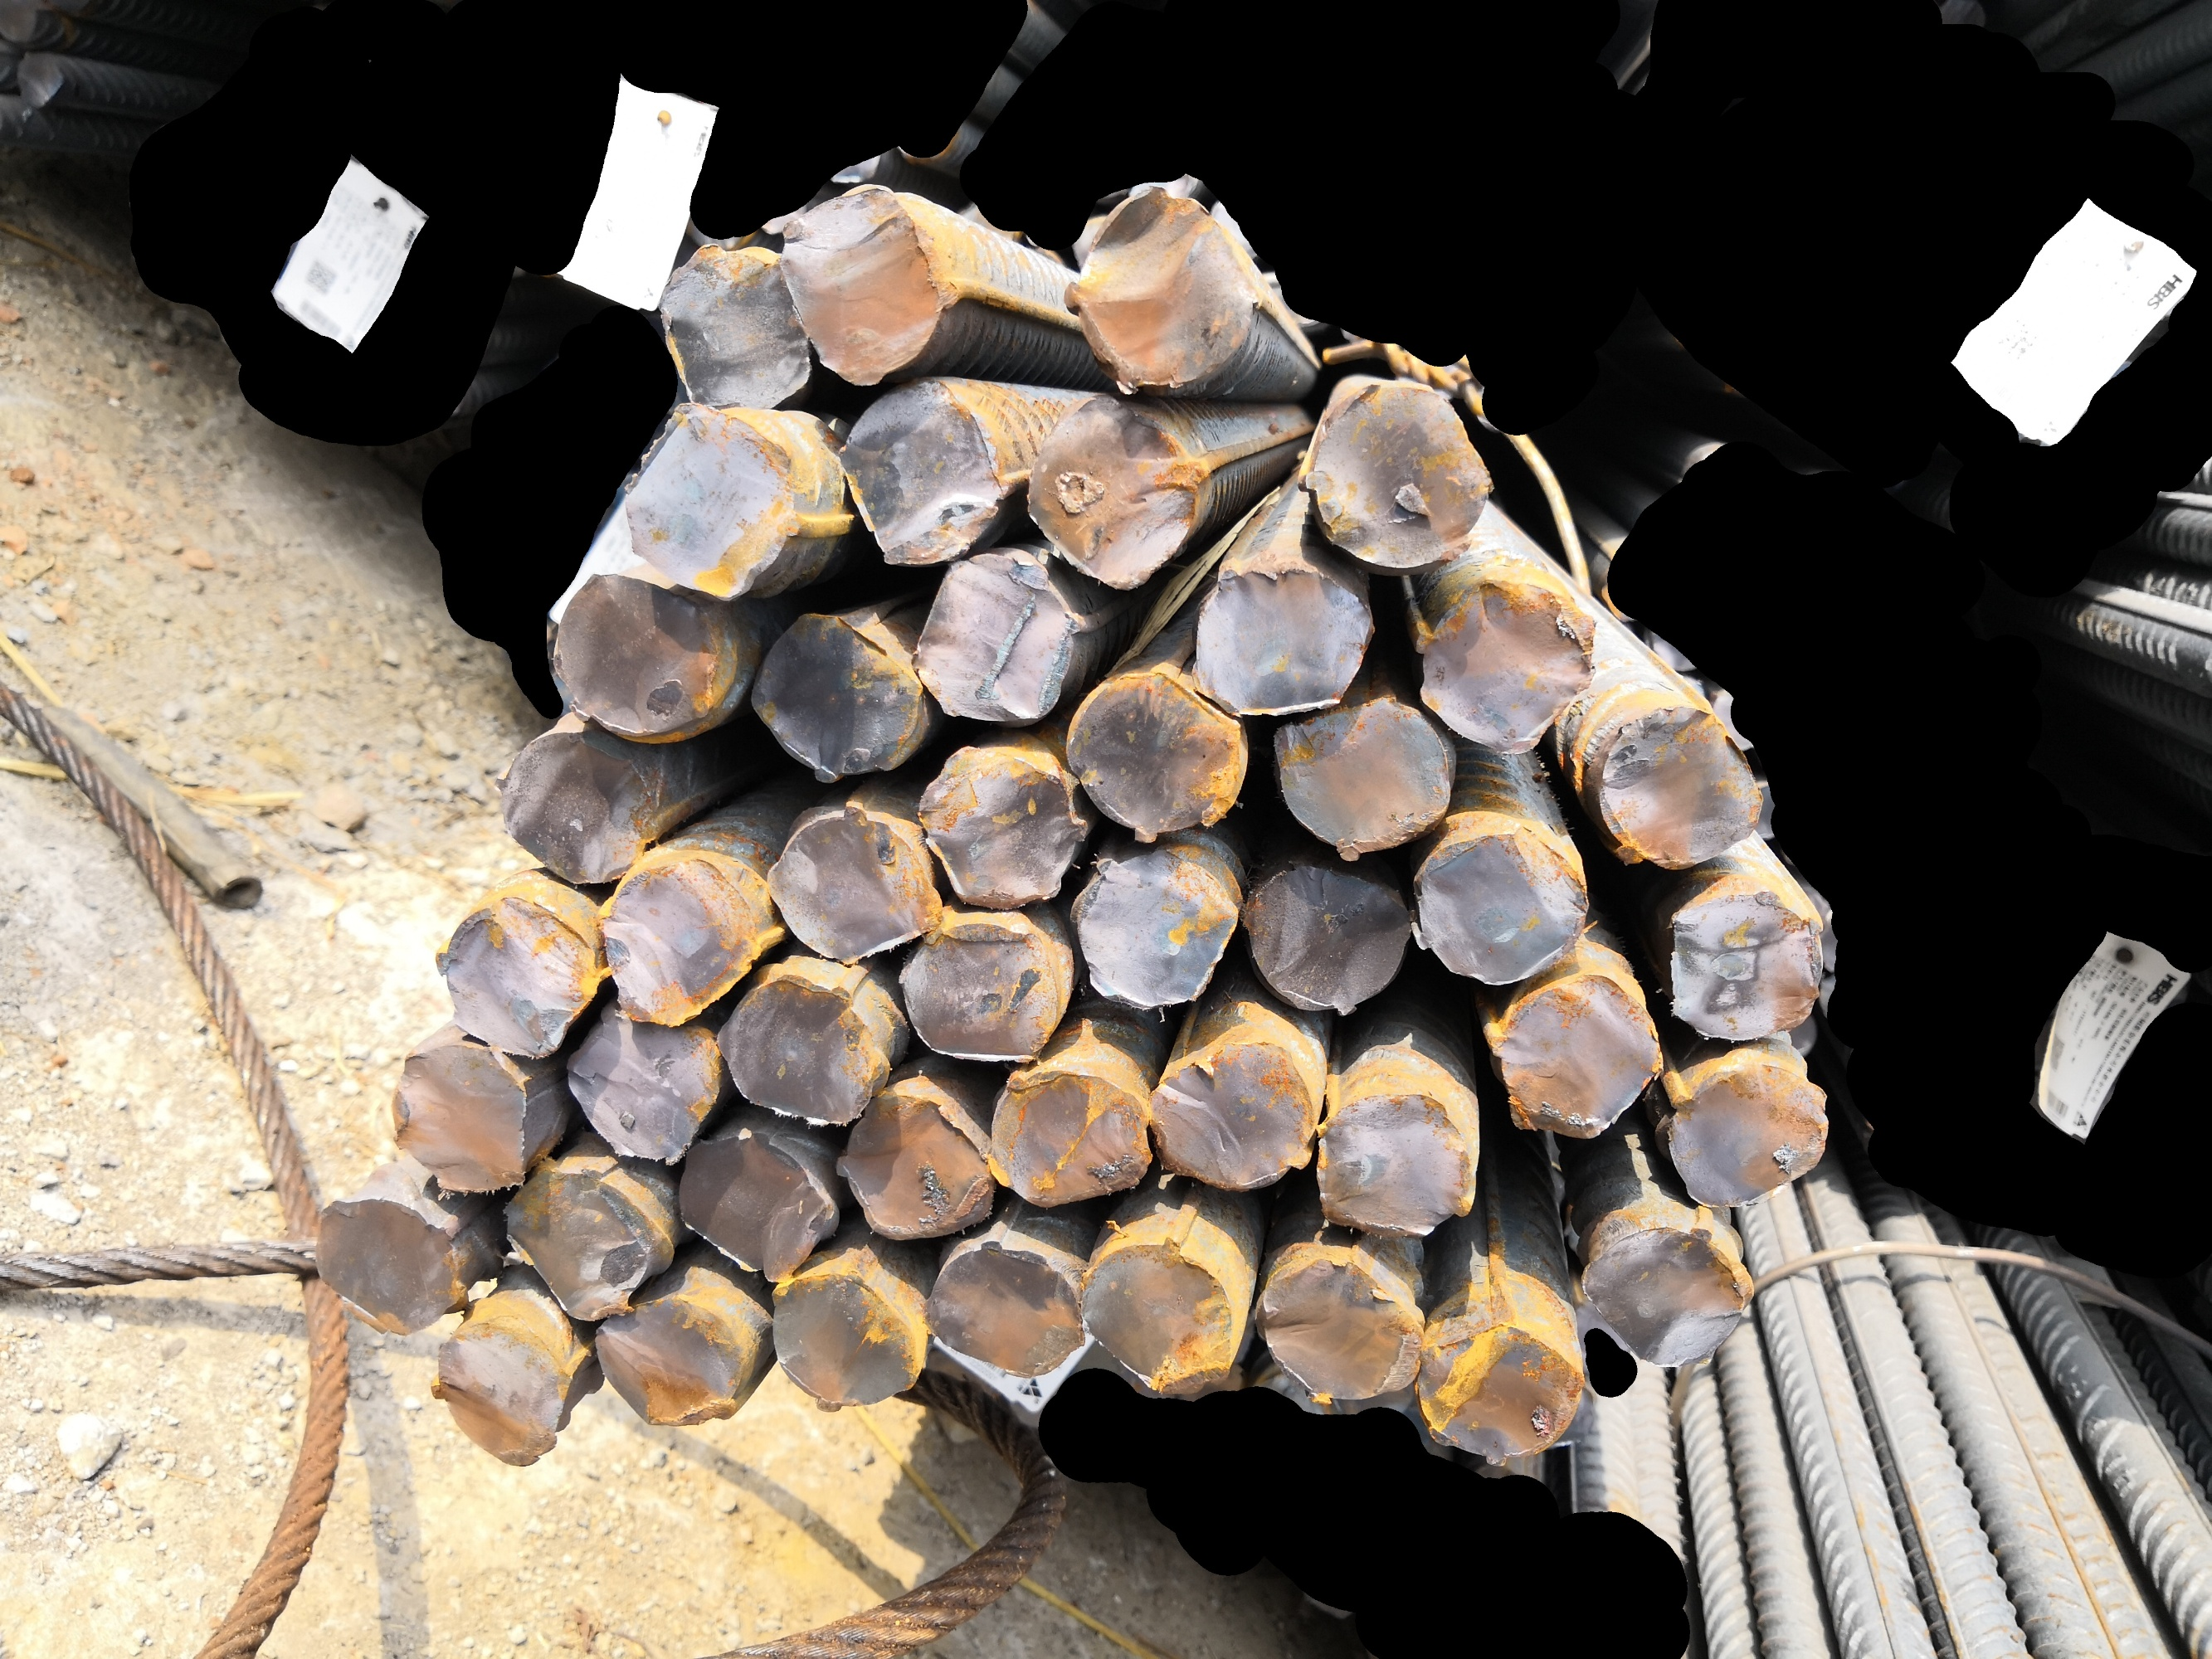rebar: (1063, 185, 1264, 397), (1293, 376, 1496, 570), (622, 397, 800, 603), (777, 181, 955, 387), (1025, 392, 1206, 589), (835, 376, 1014, 566), (1062, 669, 1250, 843), (1417, 577, 1595, 755), (1269, 694, 1454, 863), (746, 610, 926, 782), (1482, 971, 1665, 1140), (1410, 823, 1590, 990), (1192, 559, 1379, 720), (910, 552, 1082, 725), (765, 796, 943, 964), (915, 742, 1088, 913), (1593, 702, 1766, 871), (551, 572, 725, 737), (432, 889, 598, 1061), (1070, 847, 1239, 1014), (1236, 857, 1414, 1016), (601, 854, 760, 1030), (657, 240, 814, 415), (492, 725, 659, 885), (1255, 1244, 1422, 1405), (1578, 1222, 1755, 1370), (1665, 884, 1825, 1046), (1147, 1039, 1316, 1192), (898, 913, 1062, 1070), (716, 971, 882, 1126), (1417, 1314, 1586, 1466), (835, 1084, 995, 1243), (1082, 1234, 1239, 1394), (1313, 1089, 1480, 1239), (1663, 1061, 1829, 1211), (567, 1004, 722, 1162), (500, 1162, 652, 1323), (678, 1126, 835, 1279), (992, 1060, 1154, 1206), (390, 1040, 535, 1197), (927, 1237, 1088, 1378), (769, 1270, 924, 1415), (431, 1316, 577, 1467), (314, 1194, 467, 1337), (594, 1293, 748, 1429)
